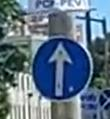sentido obrigatorio: (26, 31, 98, 105)
